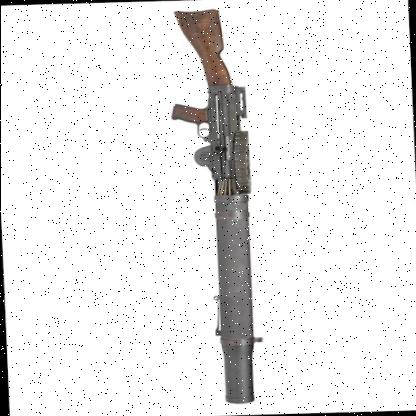rifle: (160, 5, 262, 413)
